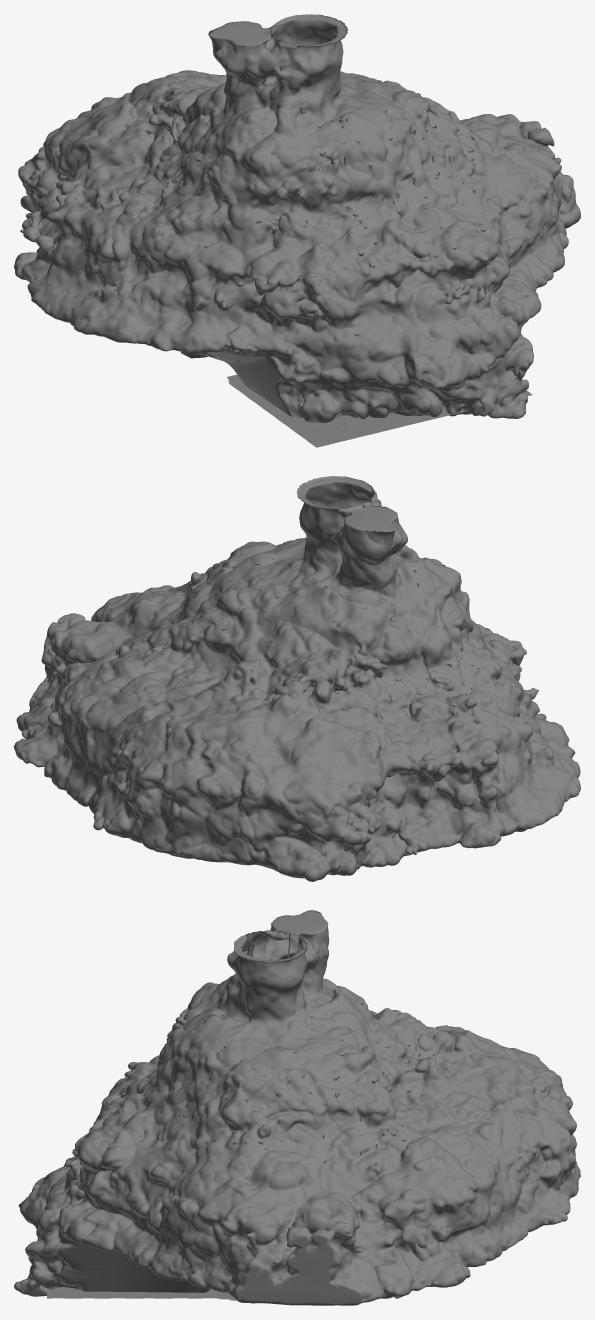
The model's file is cave_env.glb.
3 renders of one model, top to bottom at view 1: azimuth 30°, elevation 25°; view 2: azimuth 150°, elevation 25°; view 3: azimuth 270°, elevation 25°, orthographic. The views are drawn at different scales.
Parts seen in each view (by area): view 1: cave_shell, ghat, stalactites; view 2: cave_shell, stalactites; view 3: cave_shell, ghat, stalactites.
Boxes of the visible parts, bbox=[...] form: cave_shell: bbox=[14, 14, 580, 422]; ghat: bbox=[226, 374, 532, 447]; stalactites: bbox=[125, 65, 486, 414]; cave_shell: bbox=[14, 476, 580, 881]; stalactites: bbox=[143, 539, 508, 726]; cave_shell: bbox=[14, 910, 580, 1305]; ghat: bbox=[47, 1287, 261, 1303]; stalactites: bbox=[89, 933, 435, 1163].
Bounding box in the file's own units: 50.42 × 32.15 × 51.14.
6 materials, 6 textured.
